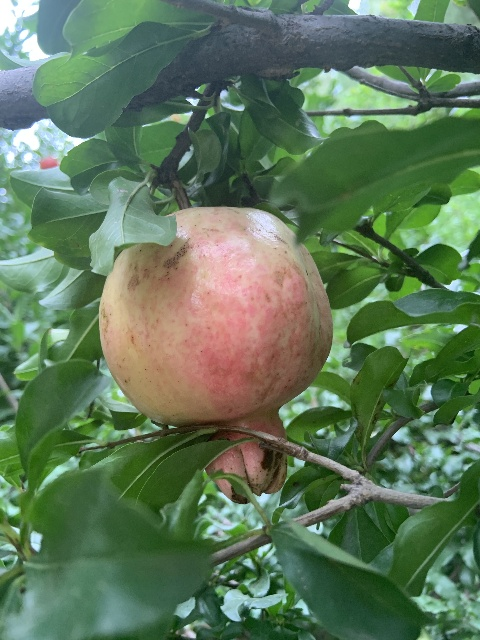ripe: (98, 206, 332, 502)
